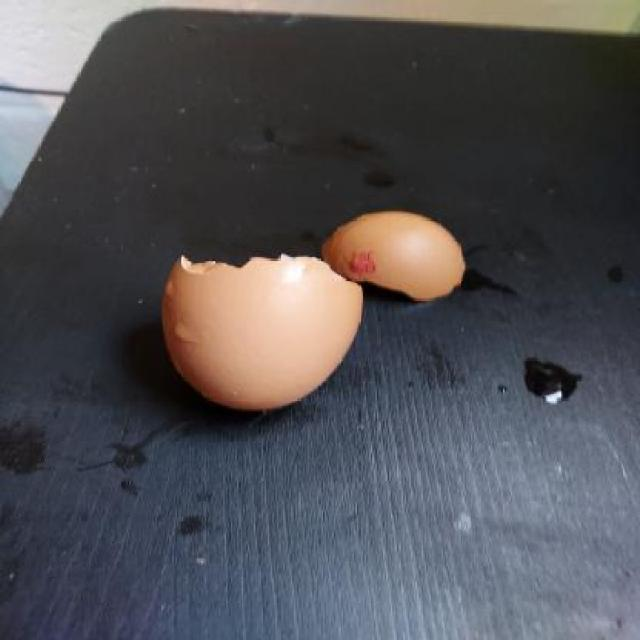biodegradable: (160, 251, 366, 411), (318, 210, 466, 308)
